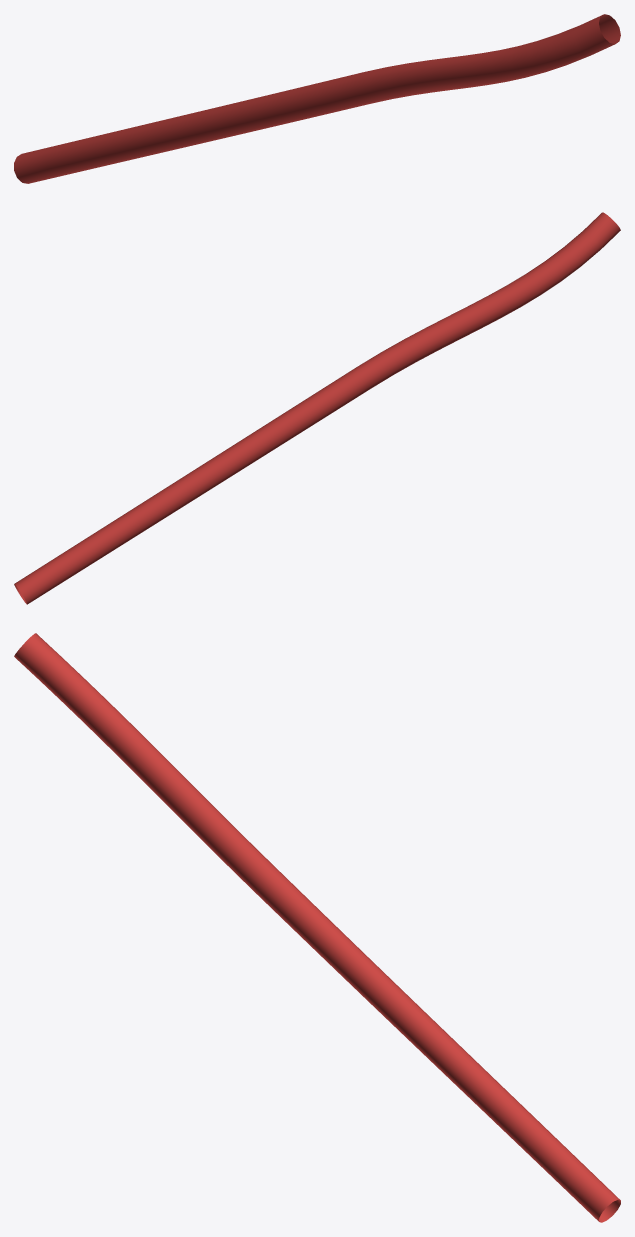
The picture shows the model from 3 angles, top to bottom: view 1: azimuth 90°, elevation 25°; view 2: azimuth 150°, elevation 25°; view 3: azimuth 270°, elevation 25°; orthographic projection. The views are drawn at different scales.
Visible parts, largest first — view 1: 左侧尺侧返动脉; view 2: 左侧尺侧返动脉; view 3: 左侧尺侧返动脉.
Part boxes in pixels (left/top/right/bottom): 左侧尺侧返动脉: left=14, top=14, right=620, bottom=183; 左侧尺侧返动脉: left=14, top=212, right=620, bottom=604; 左侧尺侧返动脉: left=14, top=633, right=620, bottom=1222.
Size of the model in its own units: 0.0327 by 0.0255 by 0.0373.
